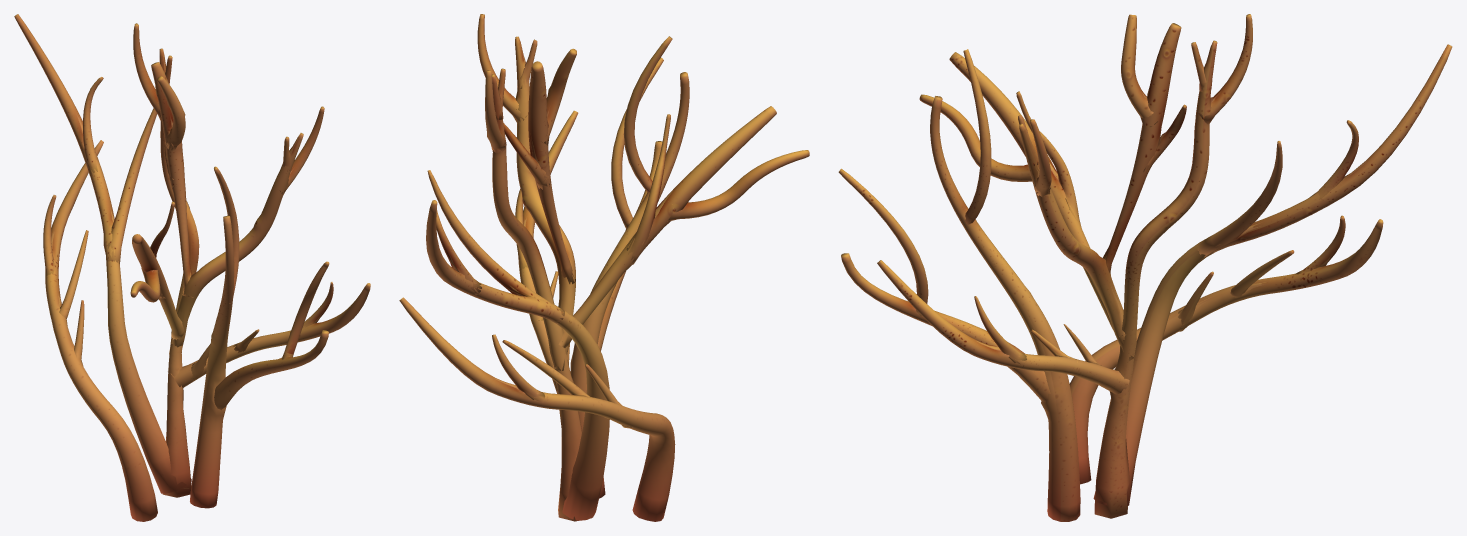
File: Plants_4.fbx
The picture shows the model from 3 angles, left to right: view 1: azimuth 30°, elevation 25°; view 2: azimuth 150°, elevation 25°; view 3: azimuth 270°, elevation 25°; orthographic projection. The views are drawn at different scales.
Parts seen in each view (by area): view 1: low poly plants 3; view 2: low poly plants 3; view 3: low poly plants 3.
Boxes of the visible parts, <box> form: low poly plants 3: <box>14,14,370,521</box>; low poly plants 3: <box>399,14,809,521</box>; low poly plants 3: <box>838,14,1452,521</box>.
Size of the model in its own units: 4.72 by 7.99 by 8.75.
1 material, 1 textured.
